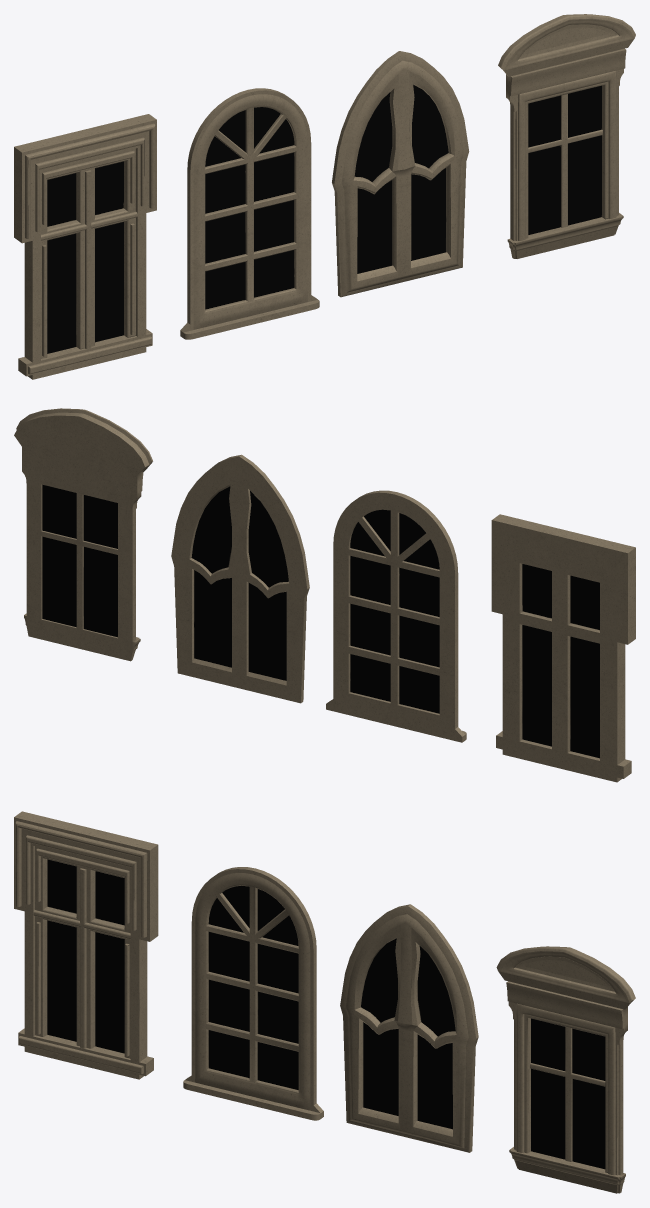
File: windows.fbx
3 views of the same model, one above another, from view 1: azimuth 30°, elevation 25°; view 2: azimuth 150°, elevation 25°; view 3: azimuth 330°, elevation 25° (orthographic).
Parts seen in each view (by area): view 1: Cube; view 2: Cube; view 3: Cube.
Boxes of the visible parts, x1,y1,x2,y2 form: Cube: [14, 14, 635, 379]; Cube: [14, 408, 635, 782]; Cube: [14, 811, 635, 1193].
Size of the model in its own units: 196 by 71 by 5.66.
